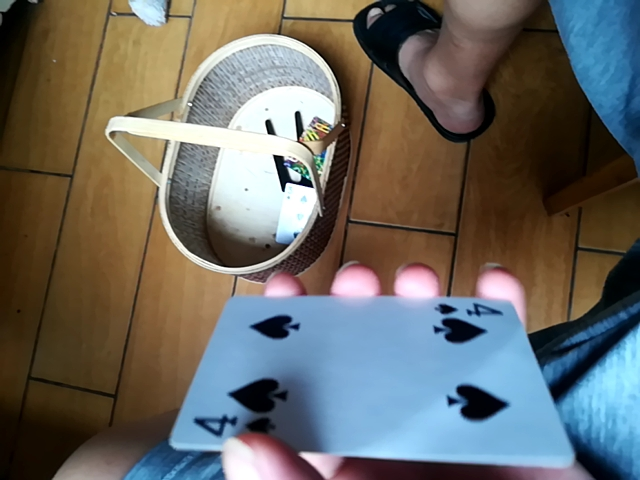ht 4: (171, 287, 568, 468)
